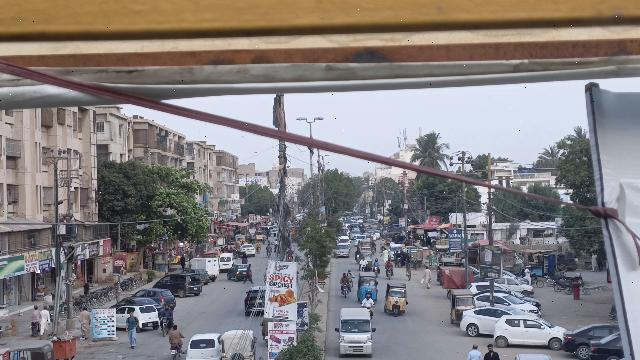Bike: (158, 316, 173, 337), (168, 341, 183, 360), (337, 281, 351, 299), (29, 321, 40, 339), (361, 306, 375, 318)
Car: (493, 314, 565, 351), (459, 304, 518, 339), (561, 324, 614, 359), (152, 273, 203, 297), (116, 304, 160, 331), (186, 330, 222, 360), (588, 329, 622, 360), (133, 287, 177, 309), (244, 285, 266, 317), (226, 263, 249, 281)
Person: (126, 309, 141, 350), (78, 304, 91, 340), (39, 304, 51, 338), (169, 322, 184, 343), (421, 264, 433, 290), (466, 342, 483, 360), (158, 302, 176, 319), (243, 261, 254, 287), (484, 342, 499, 360), (361, 291, 375, 306), (31, 304, 40, 321), (340, 272, 351, 284)
Rickshaw: (446, 288, 475, 327), (221, 329, 256, 360), (383, 280, 410, 317), (356, 271, 380, 303)
Truck: (186, 256, 221, 281)
Van: (335, 305, 377, 357)
